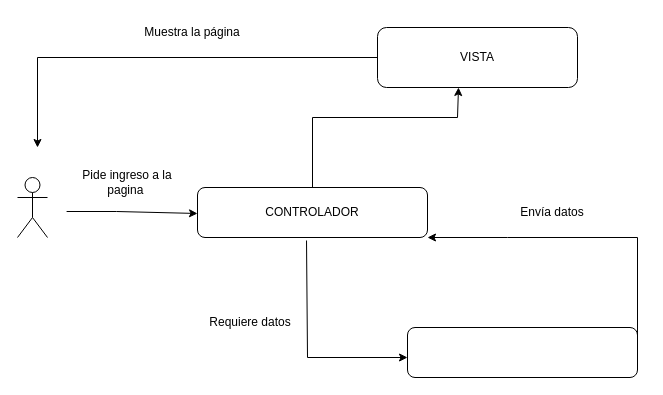
Image size: 663x395. Some labels were removed from this diagram. Here are the shapes that lost their labels. From the top down, the centre of each, then its label:
At point (32, 207): "Actor".
At point (522, 352): "MODELO".
